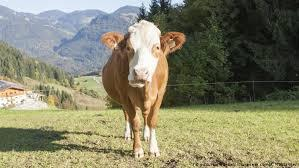cow: (101, 20, 186, 161)
